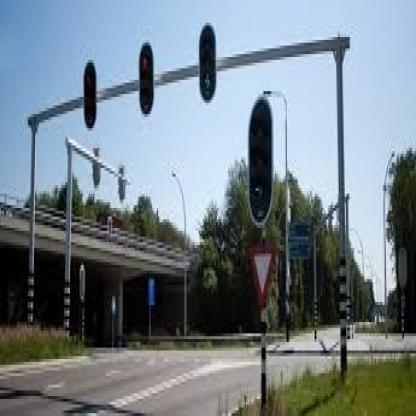Traffic Signal: (198, 23, 218, 102), (136, 42, 155, 112)
